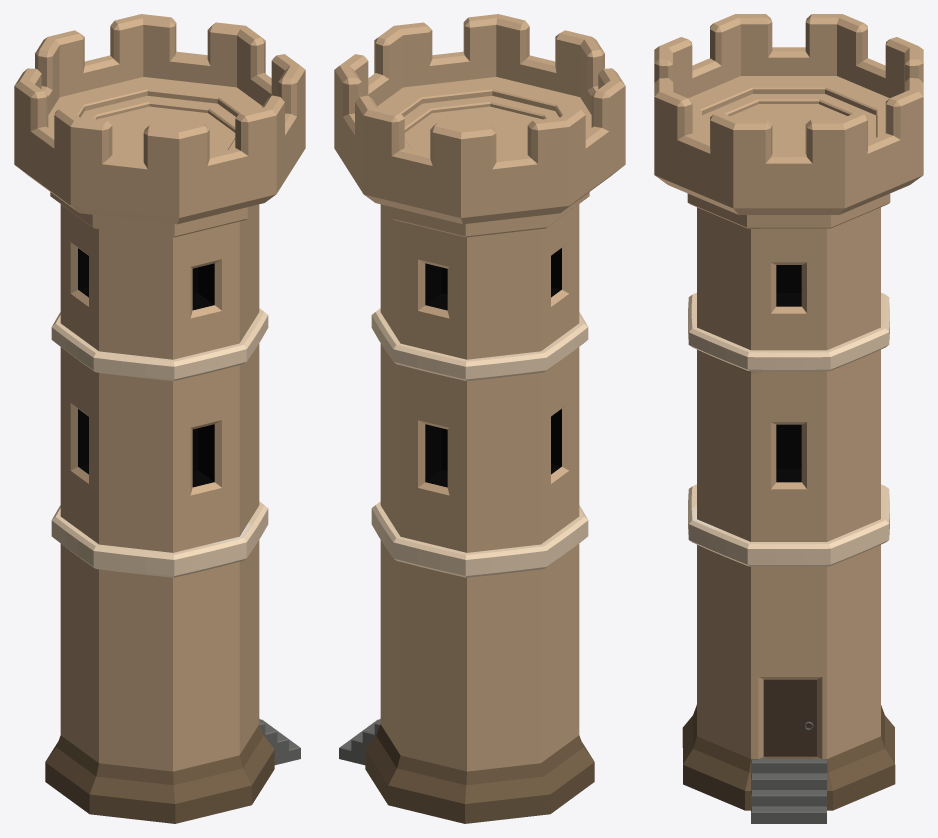
Rendered from Tower.fbx.
3 renders of one model, left to right at view 1: azimuth 30°, elevation 25°; view 2: azimuth 150°, elevation 25°; view 3: azimuth 270°, elevation 25°, orthographic.
Visible parts, largest first — view 1: Cylinder; view 2: Cylinder; view 3: Cylinder.
Part boxes in pixels (x1=…): Cylinder: x1=14, y1=14, x2=305, y2=823; Cylinder: x1=334, y1=14, x2=625, y2=823; Cylinder: x1=654, y1=14, x2=923, y2=823.
Size of the model in its own units: 722 by 2024 by 709.
